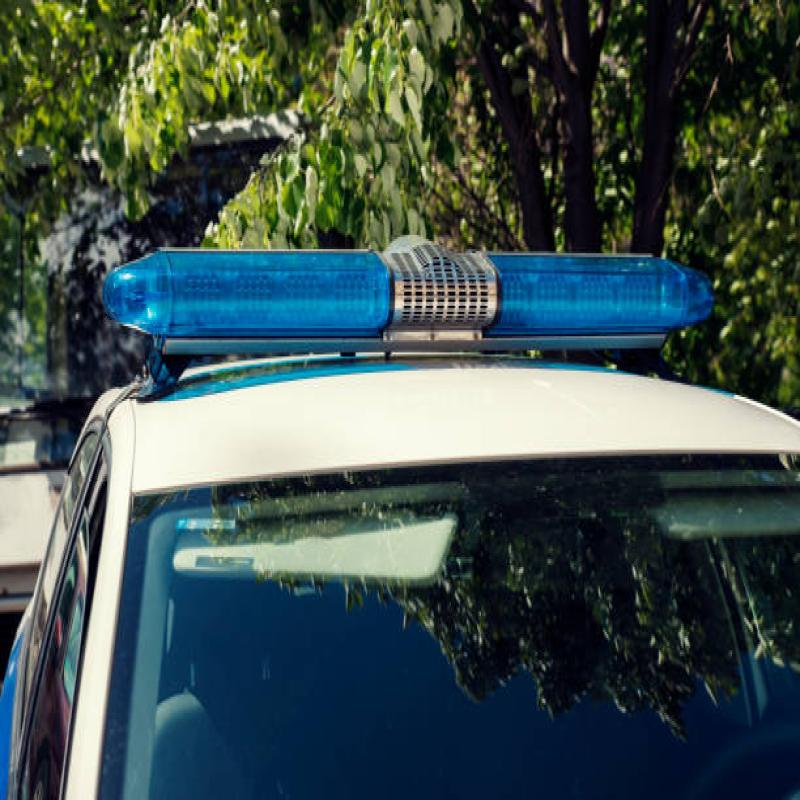AmbulanceSiren: (97, 211, 709, 368)
